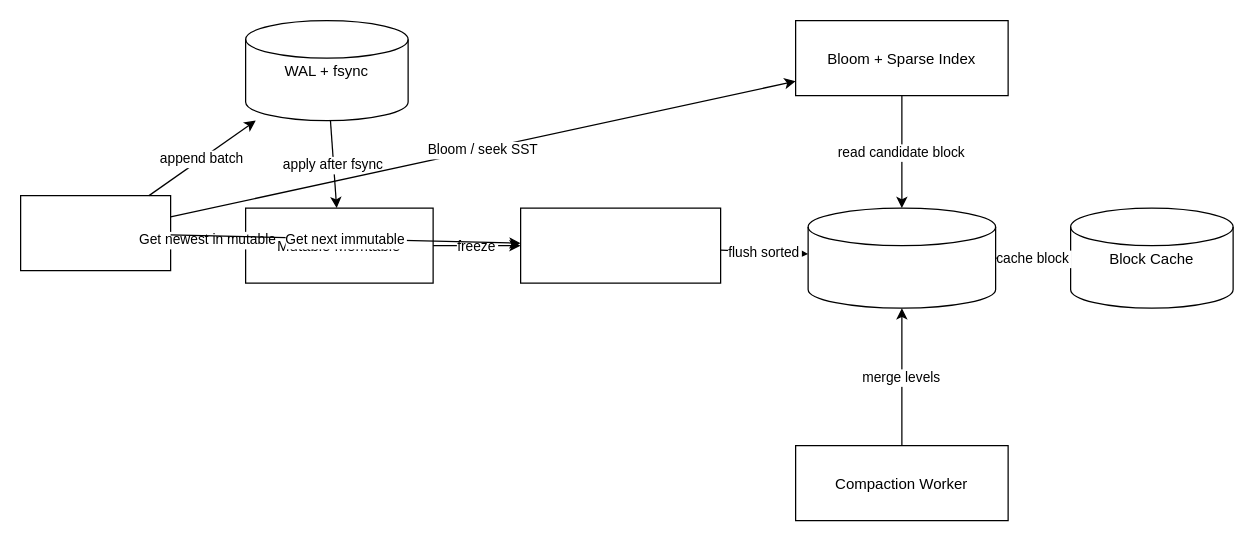
This 1254x541 diagram has some shape labels left out. The shapes that lost their labels are listed below. From the top down, each one's centre as x and y in pixels, then its label:
the point at 95,232: KV API
the point at 620,245: Immutable Memtables
the point at 901,257: SSTable Levels
